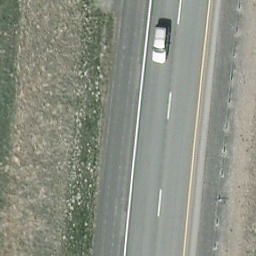car: (151, 27, 172, 64)
